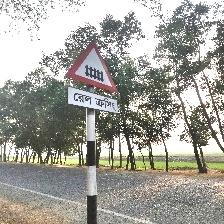Rail-crossing: (65, 41, 120, 116)
